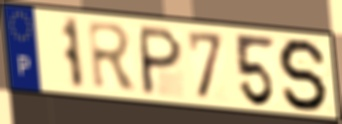1: (60, 15, 87, 93)
5: (232, 31, 277, 108)
7: (187, 28, 227, 102)
P: (139, 23, 185, 98)
R: (85, 19, 140, 92)
S: (276, 37, 331, 114)
